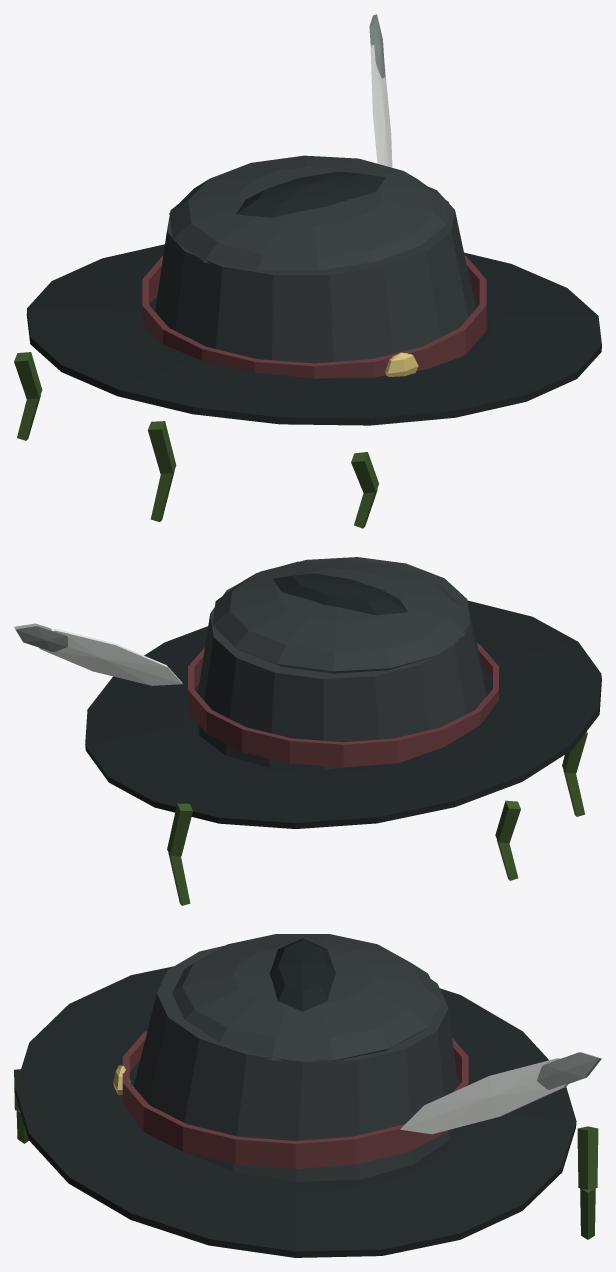
File: smuggler_captain_hat.glb
The picture shows the model from 3 angles, top to bottom: view 1: azimuth 30°, elevation 25°; view 2: azimuth 150°, elevation 25°; view 3: azimuth 270°, elevation 25°; orthographic projection. The views are drawn at different scales.
Parts seen in each view (by area): view 1: smuggler_captain_hat; view 2: smuggler_captain_hat; view 3: smuggler_captain_hat.
Boxes of the visible parts, x1,y1,x2,y2 form: smuggler_captain_hat: (14,14,601,528); smuggler_captain_hat: (14,557,601,905); smuggler_captain_hat: (14,934,601,1257).
Size of the model in its own units: 1.69 by 0.8522 by 1.69.
